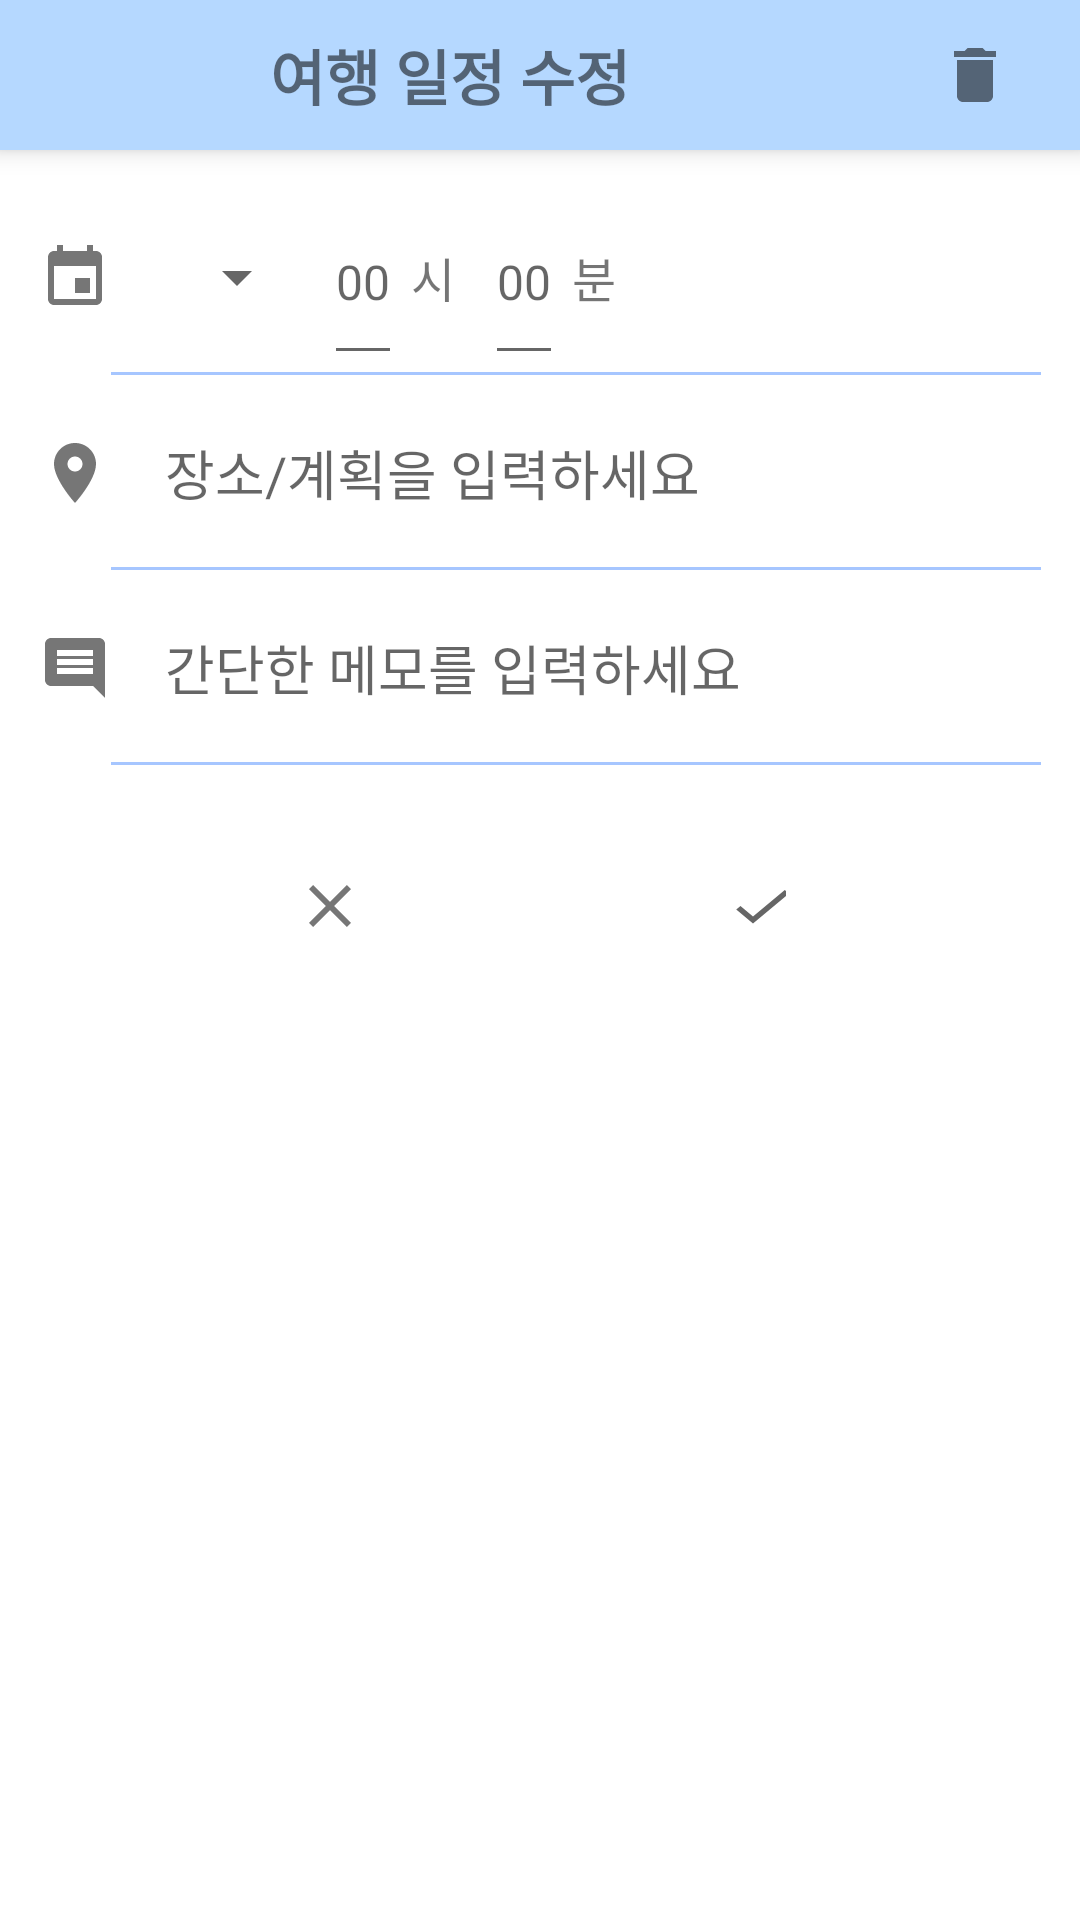

Icons on this 1080w x 1920h Android screen, each with its box as detection(x1, y1, x2, y2):
calendar: detection(48, 245, 102, 305)
check: detection(736, 890, 786, 923)
close: detection(309, 885, 351, 927)
delete: detection(954, 48, 996, 102)
insert comment: detection(45, 638, 105, 698)
place: detection(54, 443, 96, 503)
